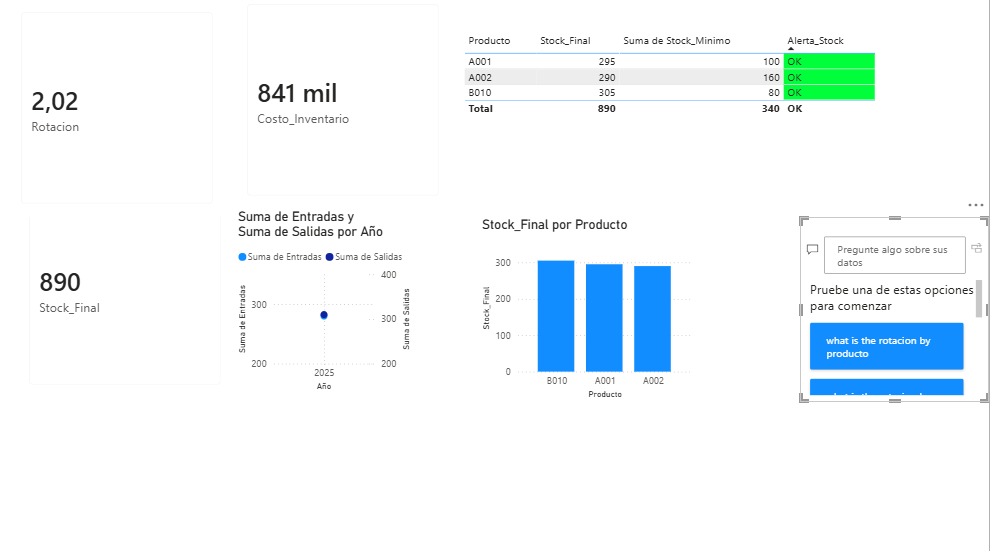

The dashboard page shown, as its layout file describes it:
{"tool":"powerbi","page":{"name":"Página 1","canvas":[1280,720],"ordinal":0},"visuals":[{"type":"cardVisual","fields":{"Data":["Tabla1.Stock_Final"]},"box":[29.6,242.9,280.2,280.2],"z":0},{"type":"cardVisual","fields":{"Data":["Tabla1.Rotacion"]},"box":[19.3,10.3,280.2,280.2],"z":1},{"type":"cardVisual","fields":{"Data":["Tabla1.Costo_Inventario"]},"box":[309.4,0,280.2,280.2],"z":2},{"type":"clusteredColumnChart","fields":{"Category":["Tabla1.Producto"],"Y":["Tabla1.Stock_Final"]},"box":[623.3,290.4,280.2,237.8],"z":3},{"type":"lineChart","fields":{"Category":["Tabla1.Fecha.Variación.Jerarquía de fechas.Año","Tabla1.Fecha.Variación.Jerarquía de fechas.Trimestre","Tabla1.Fecha.Variación.Jerarquía de fechas.Mes","Tabla1.Fecha.Variación.Jerarquía de fechas.Día"],"Y":["Sum(Tabla1.Entradas)"],"Y2":["Sum(Tabla1.Salidas)"]},"box":[309.7,280.2,231.3,237.8],"z":4},{"type":"tableEx","fields":{"Values":["Tabla1.Producto","Tabla1.Stock_Final","Sum(Tabla1.Stock_Minimo)","Tabla1.Alerta_Stock"]},"box":[600.2,47.6,548.8,205.6],"z":5},{"type":"qnaVisual","box":[1037.1,290.4,242.9,237.8],"z":6}]}

Visuals, with their boxes on the page's 1280x720 design canvas (x1, y1, x2, y2). These are canvas units, not pixel positions in the 990x551 screenshot, which may show the page scaled, cropped or inside an application window:
cardVisual - Tabla1.Stock_Final: <region>30, 243, 310, 523</region>
cardVisual - Tabla1.Rotacion: <region>19, 10, 300, 290</region>
cardVisual - Tabla1.Costo_Inventario: <region>309, 0, 590, 280</region>
clusteredColumnChart - Tabla1.Producto x Tabla1.Stock_Final: <region>623, 290, 904, 528</region>
lineChart - Tabla1.Fecha.Variación.Jerarquía de fechas.Año x Tabla1.Fecha.Variación.Jerarquía de fechas.Trimestre: <region>310, 280, 541, 518</region>
tableEx - Tabla1.Producto x Tabla1.Stock_Final: <region>600, 48, 1149, 253</region>
qnaVisual: <region>1037, 290, 1280, 528</region>
